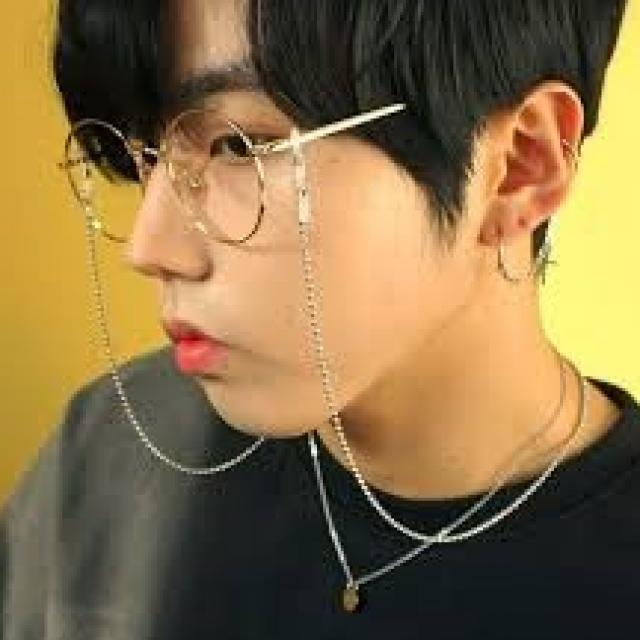Glasses: (53, 56, 460, 249)
